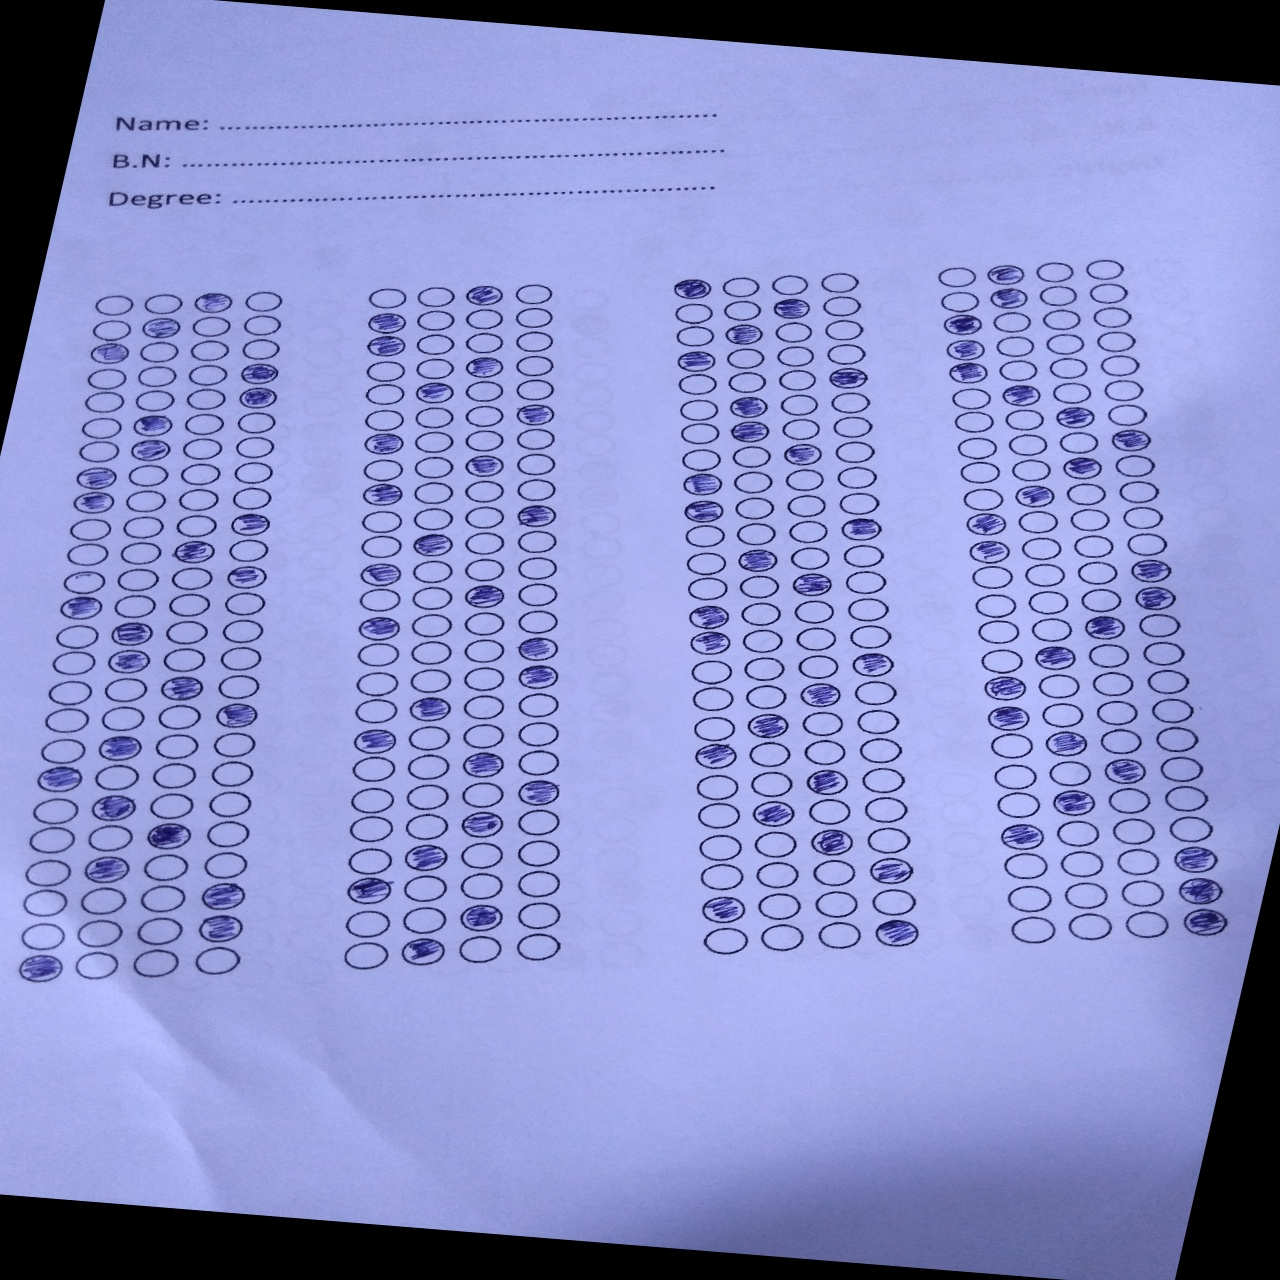not-c: (511, 930, 568, 964), (340, 905, 397, 939), (338, 938, 395, 972), (452, 933, 510, 967), (190, 942, 245, 978), (510, 900, 568, 932), (74, 917, 127, 949), (699, 924, 751, 956), (740, 652, 792, 685), (342, 813, 399, 844), (455, 871, 511, 901), (396, 783, 452, 813), (458, 840, 515, 871), (513, 806, 570, 837), (396, 905, 452, 935), (853, 731, 905, 764), (1141, 638, 1192, 670), (452, 779, 508, 810), (515, 870, 570, 900), (515, 838, 570, 869), (754, 921, 806, 953), (1156, 753, 1208, 784), (754, 888, 806, 920), (1064, 910, 1115, 942), (750, 829, 801, 862), (852, 678, 903, 710), (990, 760, 1041, 792), (135, 883, 186, 914), (139, 852, 191, 884), (1096, 724, 1148, 756), (1091, 697, 1143, 729), (1148, 695, 1199, 727), (693, 832, 744, 864), (1102, 785, 1153, 817), (1166, 813, 1216, 846), (397, 812, 452, 842), (397, 874, 452, 904), (134, 915, 186, 946), (26, 824, 79, 855), (1160, 783, 1213, 813), (685, 656, 737, 687), (1087, 669, 1139, 700), (199, 850, 250, 881), (28, 794, 79, 825), (1009, 913, 1060, 945), (860, 794, 911, 825), (1121, 908, 1171, 940), (811, 857, 862, 888), (747, 768, 797, 799), (694, 799, 744, 831), (692, 770, 742, 802), (1145, 666, 1196, 697), (1035, 670, 1085, 702), (1039, 699, 1089, 730), (1043, 756, 1094, 788), (1051, 817, 1102, 849), (1109, 816, 1159, 847), (20, 887, 72, 918), (812, 919, 864, 949), (1117, 878, 1169, 908), (753, 858, 804, 888), (852, 704, 904, 735), (686, 685, 737, 715), (740, 681, 791, 712), (91, 761, 141, 792), (84, 823, 134, 855), (1057, 849, 1107, 880), (1003, 883, 1053, 914), (805, 795, 855, 826), (1153, 723, 1203, 755), (794, 651, 843, 682), (70, 949, 121, 980), (77, 885, 128, 915), (21, 857, 72, 887), (1060, 878, 1110, 908), (1001, 851, 1051, 881), (862, 824, 912, 855), (867, 886, 918, 917), (1112, 846, 1163, 877), (799, 737, 850, 768), (797, 709, 847, 740), (858, 764, 908, 795), (993, 790, 1043, 821), (987, 731, 1037, 762), (743, 738, 794, 769), (809, 888, 860, 918), (1082, 641, 1133, 670), (217, 644, 266, 674), (515, 719, 564, 749), (38, 736, 87, 767), (689, 712, 738, 742), (975, 645, 1024, 675), (18, 920, 68, 949), (128, 948, 178, 978), (845, 622, 896, 652), (844, 593, 894, 622), (159, 617, 207, 647), (354, 640, 402, 670), (971, 592, 1019, 622), (59, 567, 108, 597), (101, 674, 150, 703), (109, 591, 158, 620), (114, 565, 163, 594), (115, 537, 164, 566), (154, 702, 203, 731), (42, 704, 91, 734), (458, 692, 508, 721), (461, 663, 510, 693), (408, 584, 457, 613), (515, 690, 564, 720), (349, 754, 399, 783), (147, 791, 196, 821), (151, 761, 200, 790), (204, 789, 253, 818), (696, 862, 745, 891), (840, 567, 890, 597), (968, 565, 1017, 594), (459, 610, 510, 638), (166, 591, 215, 620), (46, 678, 94, 707), (459, 635, 508, 665), (406, 666, 454, 695), (407, 636, 455, 666), (795, 625, 843, 654), (840, 542, 888, 571), (48, 648, 97, 676), (54, 622, 103, 651), (98, 704, 148, 733), (216, 672, 265, 700), (461, 721, 510, 749), (408, 557, 457, 585), (352, 669, 401, 697), (515, 605, 564, 633), (207, 731, 257, 760), (678, 522, 727, 550), (1108, 452, 1157, 481), (406, 753, 452, 782), (515, 749, 563, 777), (159, 646, 207, 674), (220, 617, 268, 645), (406, 723, 454, 751), (408, 610, 456, 638), (350, 696, 399, 724), (154, 731, 202, 760), (203, 819, 251, 847), (207, 760, 256, 788), (975, 618, 1023, 646), (735, 572, 783, 600), (787, 543, 835, 571), (765, 271, 813, 299), (1070, 533, 1118, 561), (1092, 327, 1141, 355), (934, 286, 982, 314), (831, 438, 879, 467), (1116, 478, 1164, 506), (348, 787, 397, 813), (735, 600, 784, 627), (1122, 531, 1171, 558), (727, 469, 776, 496), (240, 287, 287, 315), (188, 311, 234, 339), (1026, 588, 1073, 617), (1021, 561, 1068, 590), (783, 468, 830, 496), (959, 486, 1006, 515), (728, 443, 775, 471), (733, 519, 779, 547), (1068, 506, 1115, 535), (1012, 509, 1058, 537), (1105, 402, 1152, 430), (346, 847, 394, 874), (1028, 615, 1076, 642), (790, 597, 838, 624), (782, 493, 830, 520), (833, 464, 881, 491), (1073, 560, 1121, 587), (1135, 613, 1183, 640), (956, 459, 1005, 486), (731, 493, 779, 520), (683, 576, 731, 602), (738, 627, 787, 654), (1096, 350, 1144, 377), (1089, 304, 1137, 331), (1085, 279, 1133, 306), (932, 263, 980, 290), (952, 434, 1000, 461), (992, 332, 1040, 359), (1102, 377, 1150, 404), (238, 336, 284, 365), (136, 338, 182, 366), (88, 314, 134, 342), (91, 290, 137, 318), (64, 539, 110, 567), (141, 290, 188, 316), (1019, 535, 1065, 561), (787, 516, 833, 543), (1076, 587, 1123, 614), (681, 549, 728, 576), (678, 445, 724, 472), (945, 384, 992, 411), (949, 408, 996, 435), (1005, 456, 1051, 483), (1062, 481, 1109, 508), (817, 268, 864, 295), (989, 309, 1036, 336), (995, 358, 1042, 384), (1002, 406, 1049, 433), (1003, 433, 1050, 459), (365, 282, 409, 311), (86, 365, 130, 393), (1119, 504, 1167, 530), (1033, 282, 1081, 308), (1046, 355, 1094, 381), (1042, 331, 1090, 356), (414, 282, 459, 309), (515, 580, 560, 607), (222, 591, 268, 617), (837, 490, 884, 516), (183, 384, 227, 411), (188, 336, 232, 363), (411, 354, 456, 381), (413, 331, 457, 358), (463, 306, 508, 333), (461, 379, 505, 406), (462, 427, 506, 454), (79, 438, 123, 465), (81, 389, 125, 416), (229, 484, 273, 511), (515, 554, 559, 581), (515, 529, 559, 556), (516, 476, 560, 503), (68, 515, 113, 542), (175, 513, 219, 540), (360, 508, 404, 535), (776, 392, 821, 418), (723, 345, 768, 372), (1037, 309, 1085, 334), (358, 586, 403, 612), (169, 564, 215, 590), (673, 299, 719, 325), (362, 406, 406, 433), (362, 358, 406, 384), (513, 450, 557, 477), (512, 329, 556, 356), (124, 486, 168, 513), (135, 363, 178, 390), (178, 459, 222, 486), (411, 478, 455, 505), (232, 458, 275, 485), (1049, 381, 1096, 406), (462, 479, 506, 505), (411, 404, 456, 430), (411, 307, 456, 333), (365, 381, 409, 407), (461, 329, 505, 355), (463, 404, 508, 430), (80, 415, 124, 441), (125, 462, 170, 488), (132, 388, 177, 414), (182, 411, 226, 437), (411, 455, 456, 481), (360, 457, 404, 483), (122, 515, 166, 540), (229, 537, 273, 563), (360, 532, 404, 558), (463, 530, 508, 556), (821, 318, 865, 343), (830, 414, 874, 440), (676, 396, 721, 422), (1057, 431, 1105, 455), (772, 367, 818, 392), (828, 390, 873, 415), (232, 409, 275, 435), (186, 360, 230, 386), (512, 377, 556, 403), (513, 306, 557, 332), (511, 280, 554, 306), (181, 435, 224, 461), (232, 434, 275, 459), (411, 430, 455, 456), (1083, 256, 1126, 281), (177, 486, 222, 511), (462, 505, 506, 530), (770, 320, 815, 345), (717, 297, 762, 321), (717, 275, 762, 300), (778, 417, 823, 442), (1034, 258, 1078, 282), (678, 421, 722, 445), (674, 372, 719, 396), (668, 324, 713, 348), (515, 425, 557, 451), (239, 313, 282, 338), (772, 343, 817, 367), (823, 341, 867, 365), (724, 369, 769, 393), (819, 295, 862, 320), (513, 354, 556, 377), (413, 508, 452, 532)
taken-c: (397, 935, 451, 967), (794, 678, 845, 710), (141, 821, 193, 852), (195, 912, 245, 945), (1173, 874, 1224, 907), (979, 672, 1029, 704), (81, 855, 132, 886), (994, 821, 1046, 852), (688, 741, 740, 772), (744, 710, 796, 742), (802, 765, 853, 797), (1130, 583, 1182, 614), (964, 535, 1015, 566), (836, 512, 887, 544), (87, 794, 139, 824), (345, 874, 395, 906), (14, 952, 64, 983), (872, 917, 922, 948), (1179, 907, 1230, 939), (866, 856, 917, 887), (983, 701, 1034, 733), (787, 568, 837, 600), (681, 600, 731, 632), (34, 764, 86, 795), (199, 880, 248, 912), (697, 894, 748, 925), (1042, 729, 1092, 760), (1099, 757, 1150, 788), (1049, 787, 1099, 817), (1030, 641, 1081, 672), (749, 798, 799, 829), (731, 546, 782, 577), (683, 629, 734, 660), (846, 648, 897, 679), (805, 826, 855, 857), (455, 903, 505, 932), (458, 810, 508, 839), (403, 843, 451, 872), (350, 727, 399, 756), (515, 778, 564, 806), (1171, 845, 1220, 873), (515, 634, 561, 663), (97, 733, 144, 762), (1126, 557, 1173, 586), (1082, 612, 1126, 642), (213, 700, 261, 728), (105, 647, 154, 675), (459, 750, 508, 778), (406, 695, 454, 723), (130, 410, 176, 440), (410, 531, 456, 560), (73, 463, 118, 492), (223, 563, 270, 591), (356, 560, 403, 588), (108, 620, 155, 648), (998, 381, 1044, 409), (236, 358, 281, 386), (138, 314, 184, 342), (170, 537, 216, 565), (515, 501, 560, 529), (462, 452, 508, 481), (69, 489, 115, 517), (365, 308, 411, 335), (236, 383, 282, 410), (362, 331, 409, 358), (1051, 403, 1098, 430), (190, 288, 234, 316), (512, 399, 557, 427), (87, 339, 132, 366), (356, 615, 402, 642), (462, 584, 508, 611), (360, 482, 406, 509), (361, 430, 407, 457), (411, 379, 457, 406), (462, 353, 508, 380), (127, 437, 172, 464), (57, 594, 103, 621), (463, 282, 509, 309), (1058, 455, 1105, 481), (227, 511, 272, 538), (159, 674, 204, 701), (726, 418, 770, 445), (964, 511, 1009, 537), (678, 471, 723, 497), (825, 365, 870, 390), (670, 275, 715, 301), (769, 297, 813, 322), (722, 321, 767, 347), (942, 336, 987, 362), (941, 312, 986, 338), (946, 359, 990, 384), (1012, 484, 1057, 509), (681, 499, 726, 524), (1107, 429, 1151, 454), (982, 263, 1027, 287), (986, 286, 1030, 311), (673, 349, 719, 373), (783, 443, 828, 467), (726, 394, 768, 418)
